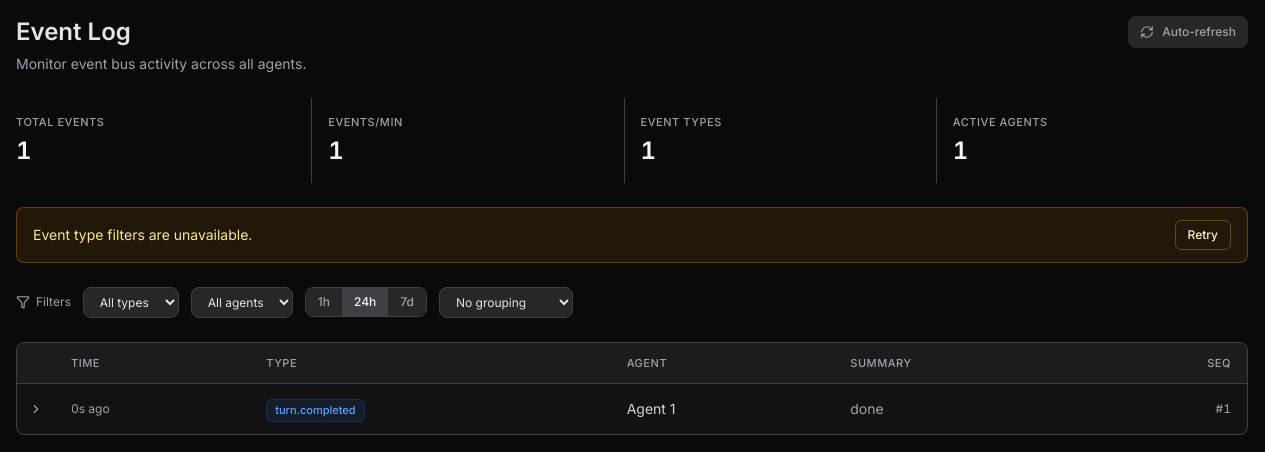
Test: EventsPage › shows a visible retryable warning when event types fail to load
The image size is (1265, 452).
Click the button with test id "events-type-retry-button" at (1203, 234), box left=1174, top=220, right=1231, bottom=250
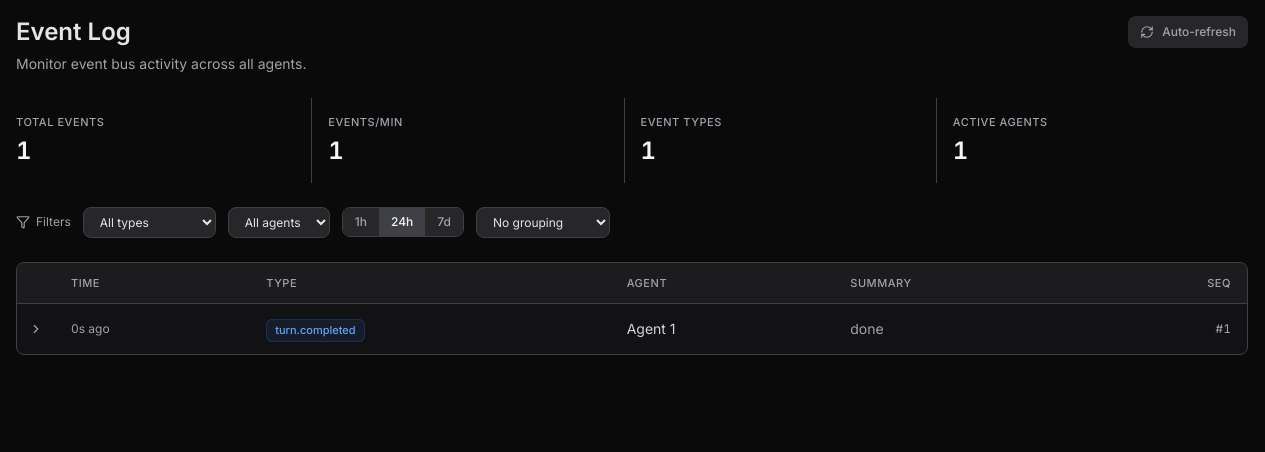
Result: the text "Event type filters are unavailable." is gone
